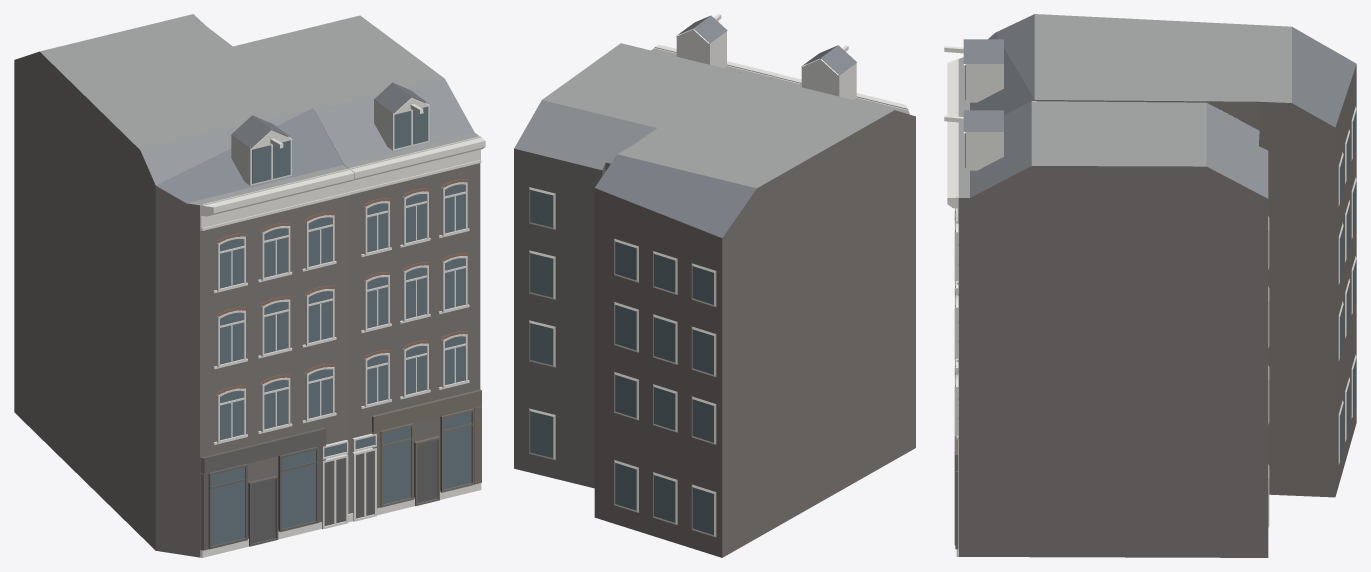
Rendered from chunk-face-helst-51-67-r1.glb.
The picture shows the model from 3 angles, left to right: view 1: azimuth 30°, elevation 25°; view 2: azimuth 150°, elevation 25°; view 3: azimuth 270°, elevation 25°; orthographic projection. The views are drawn at different scales.
Parts seen in each view (by area): view 1: face-helst-51-67-r1; view 2: face-helst-51-67-r1; view 3: face-helst-51-67-r1.
Part boxes in pixels (x1,y1,x2,y2): face-helst-51-67-r1: [14, 14, 485, 557]; face-helst-51-67-r1: [514, 14, 915, 557]; face-helst-51-67-r1: [944, 14, 1356, 557].
Size of the model in its own units: 12.79 by 16.15 by 14.54.
